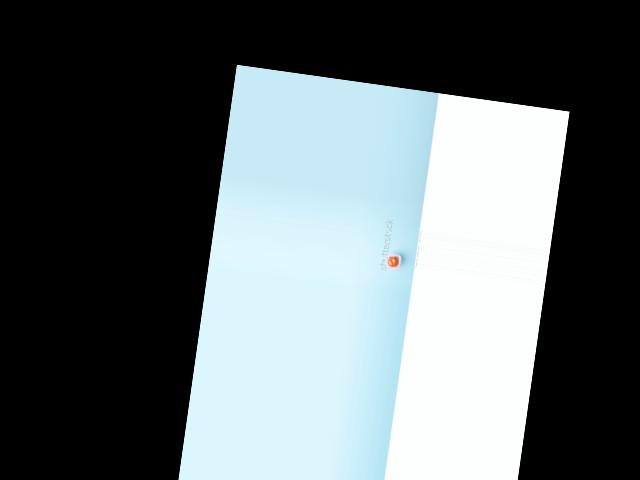tomato: (387, 255, 399, 267)
